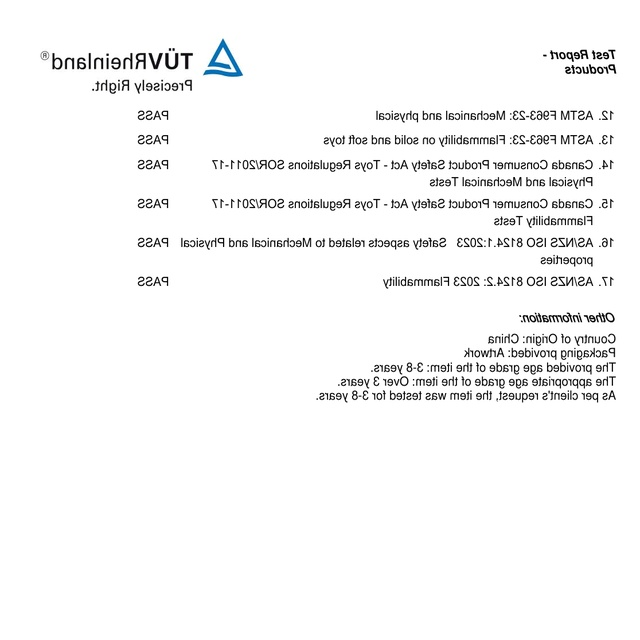tuv_rheinland: (38, 34, 243, 81)
